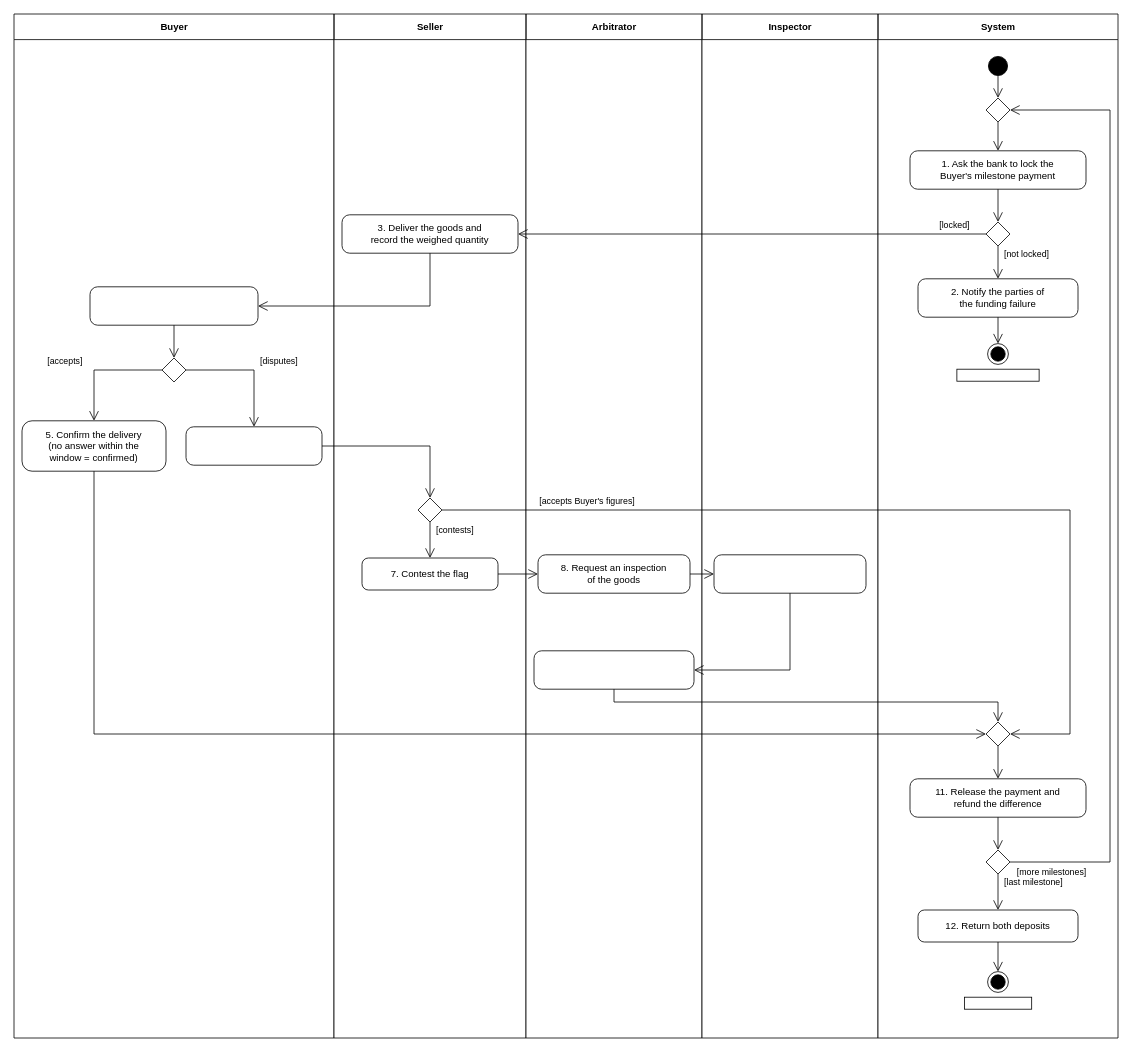
Image size: 1134x1052. Some labels were removed from this diagram. The centre of each missing label's shape, as x and y in pixels:
"10. Decide the amounts from the inspection result" belongs at (x=613, y=669).
"4. Record the received quantity with evidence" belongs at (x=173, y=305).
"6. Flag a quantity or quality issue" belongs at (x=253, y=445).
"9. Inspect the goods and submit a report" belongs at (x=789, y=573).
"Continues in BF-05" belongs at (x=997, y=374).
"Contract settled" belongs at (x=998, y=1002).
